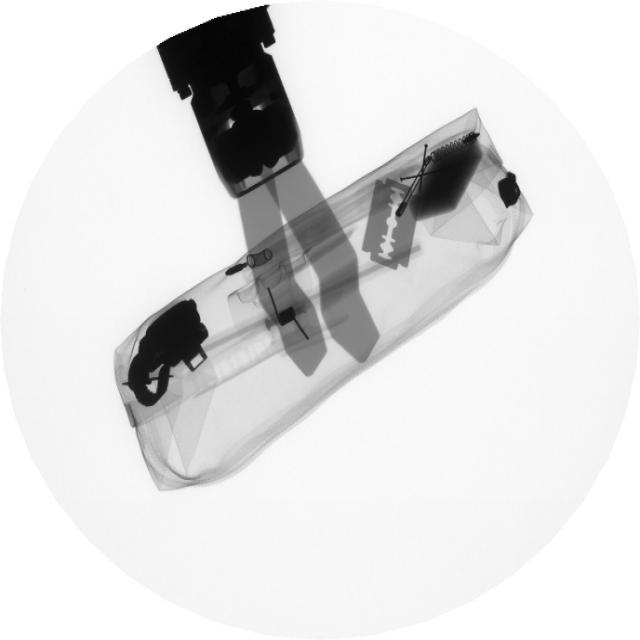BLADE: (355, 169, 423, 278)
